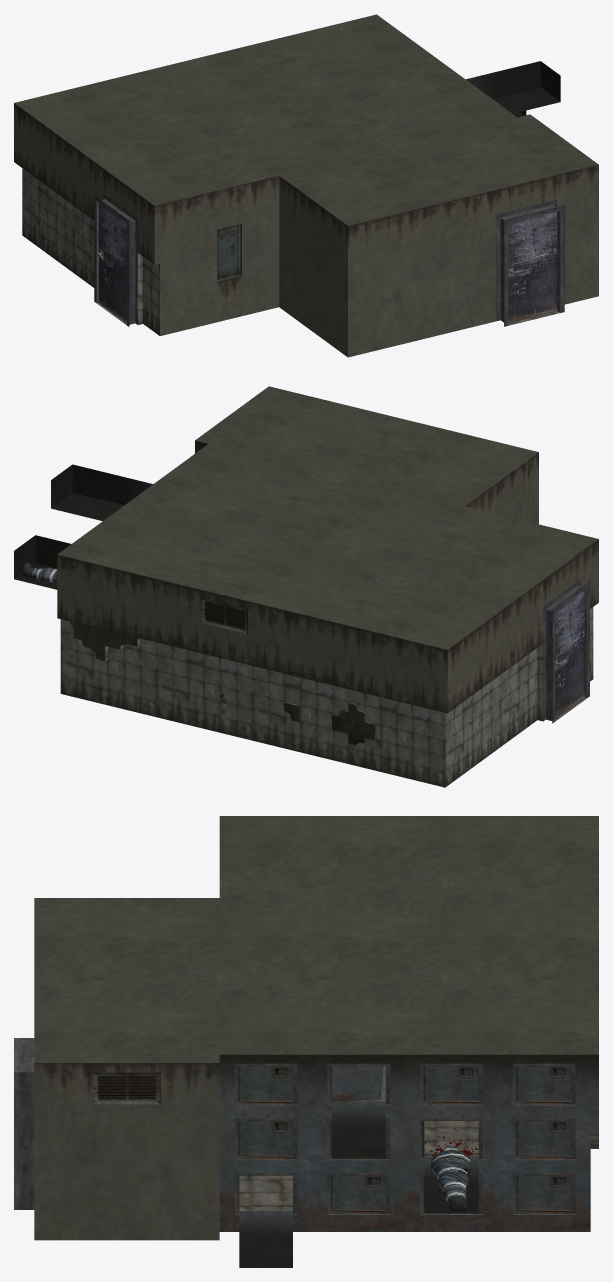
The model's file is horror_game.fbx.
The picture shows the model from 3 angles, top to bottom: view 1: azimuth 30°, elevation 25°; view 2: azimuth 150°, elevation 25°; view 3: azimuth 270°, elevation 25°; orthographic projection. The views are drawn at different scales.
Visible parts, largest first — view 1: room_01, door_02, door_01; view 2: room_01, door_01; view 3: room_01, corpse_02, morgue_door_02.
Boxes of the visible parts, x1,y1,x2,y2 form: room_01: (14,14,598,357); door_02: (503,207,557,322); door_01: (97,203,132,324); room_01: (14,386,598,787); door_01: (548,590,584,720); room_01: (14,816,598,1267); corpse_02: (430,1145,471,1211); morgue_door_02: (332,1066,383,1101).
Size of the model in its own units: 769 by 215 by 631.
